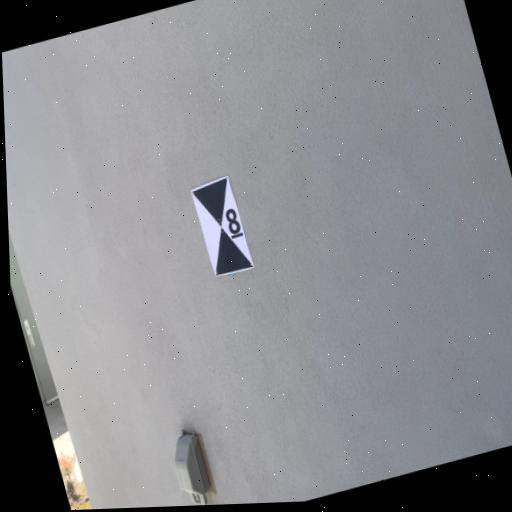target8: (191, 174, 255, 277)
